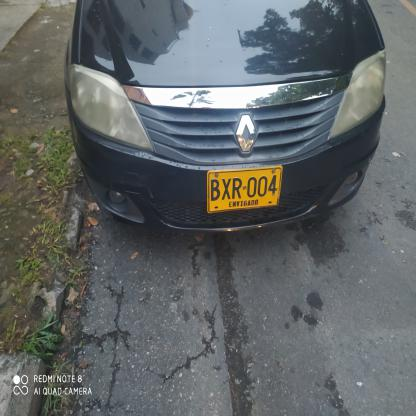placa: (202, 167, 284, 214)
